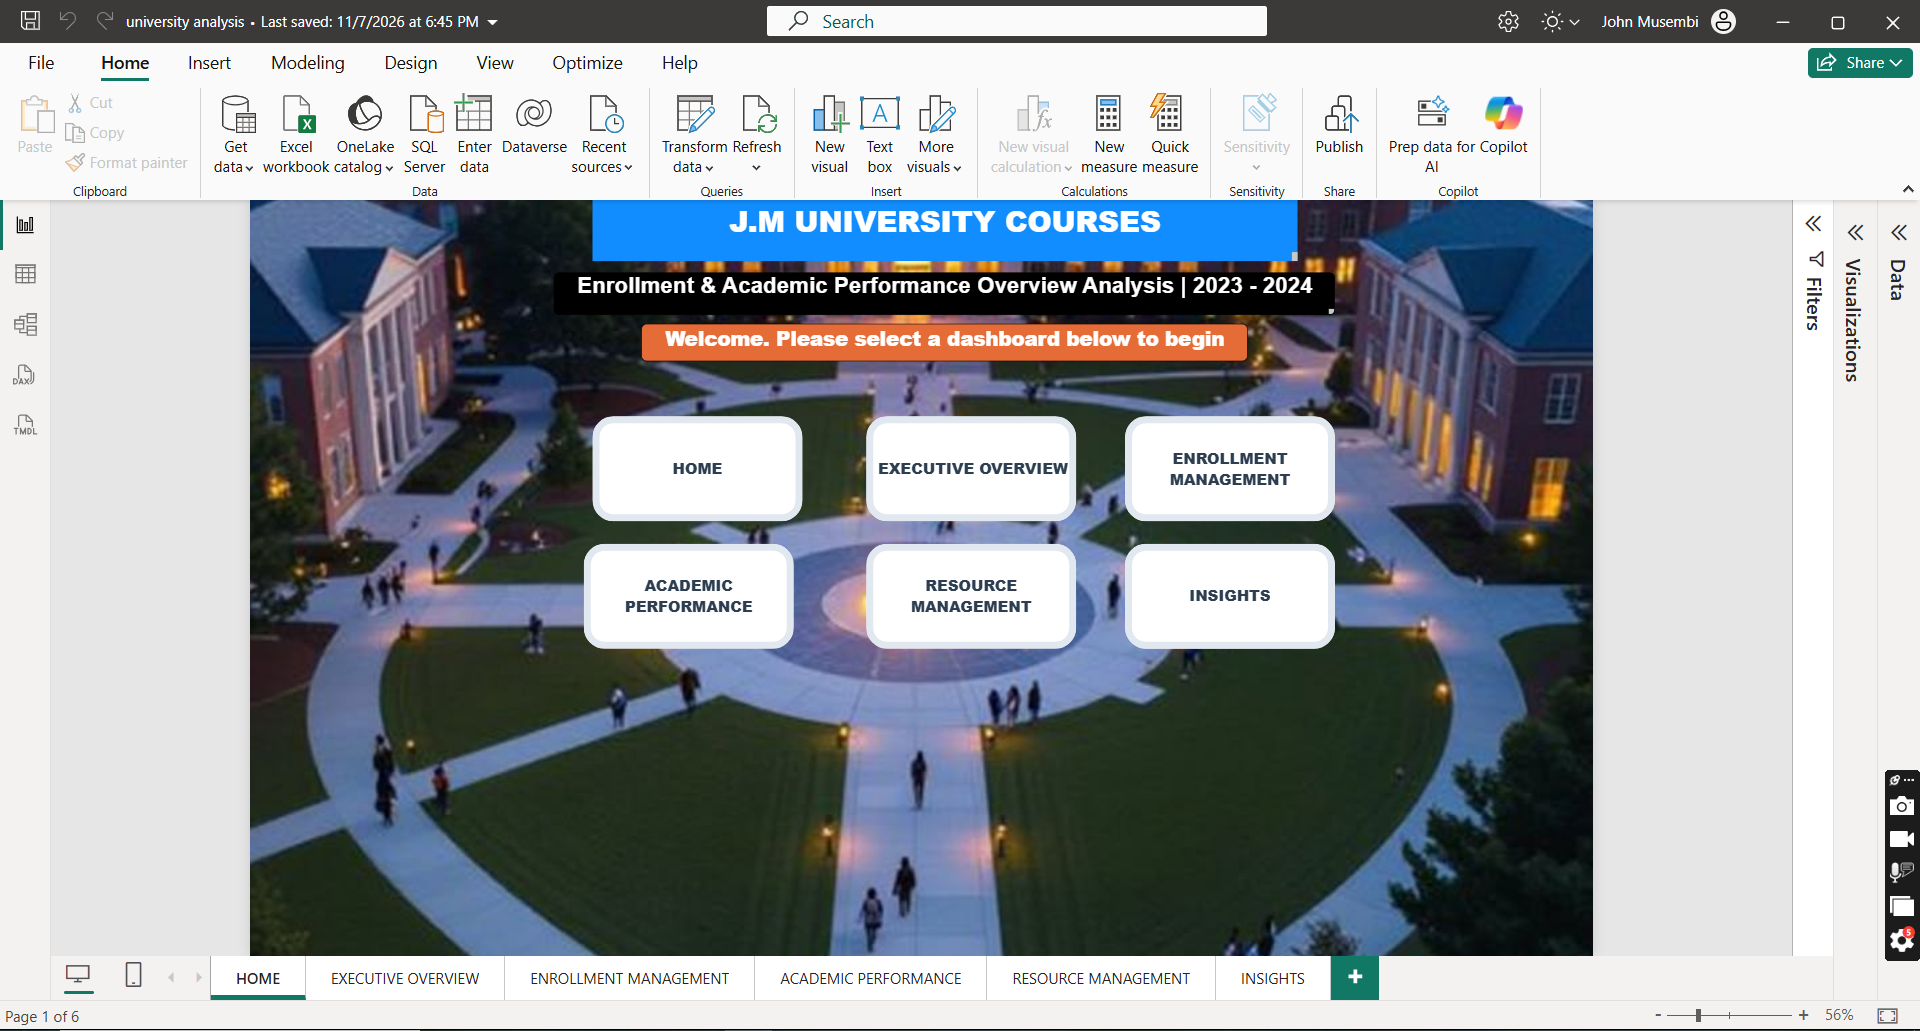

This screenshot's page, from the dashboard's own definition file:
{"tool":"powerbi","page":{"name":"HOME","canvas":[1920,1080],"ordinal":0},"visuals":[{"type":"textbox","title":"J.M UNIVERSITY COURSES","box":[489.3,0,1007.1,87.5],"z":1},{"type":"textbox","title":"Enrollment & Academic Performance Overview Analysis | 2023 - 2024","box":[433.9,103.6,1116.1,60.7],"z":2},{"type":"textbox","title":"Welcome. Please select a dashboard below to begin","box":[558.9,176.8,866.1,53.6],"z":3},{"type":"actionButton","box":[489.3,308.9,300,150],"z":4},{"type":"actionButton","box":[880.4,308.9,300,150],"z":5},{"type":"actionButton","box":[476.8,491.1,300,150],"z":6},{"type":"actionButton","box":[1250,308.9,300,150],"z":7},{"type":"actionButton","box":[880.4,491.1,300,150],"z":8},{"type":"actionButton","box":[1250,491.1,300,150],"z":9}]}

Visuals, with their boxes on the page's 1920x1080 design canvas (x1, y1, x2, y2). These are canvas units, not pixel positions in the 1920x1031 screenshot, which may show the page scaled, cropped or inside an application window:
"J.M UNIVERSITY COURSES" textbox: box(489, 0, 1496, 88)
"Enrollment & Academic Performance Overview Analysis | 2023 - 2024" textbox: box(434, 104, 1550, 164)
"Welcome. Please select a dashboard below to begin" textbox: box(559, 177, 1425, 230)
actionButton: box(489, 309, 789, 459)
actionButton: box(880, 309, 1180, 459)
actionButton: box(477, 491, 777, 641)
actionButton: box(1250, 309, 1550, 459)
actionButton: box(880, 491, 1180, 641)
actionButton: box(1250, 491, 1550, 641)
